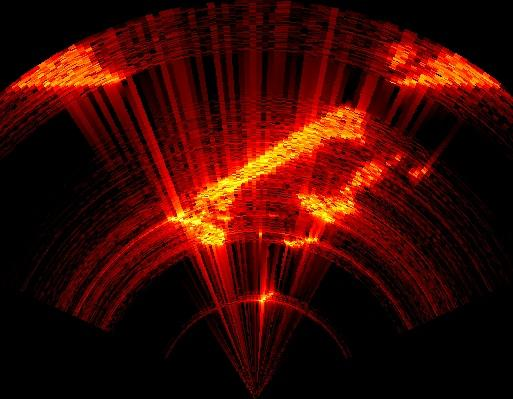shipwreck: (168, 106, 367, 245), (297, 154, 401, 226), (11, 46, 125, 93), (391, 42, 501, 87), (283, 233, 319, 246)
